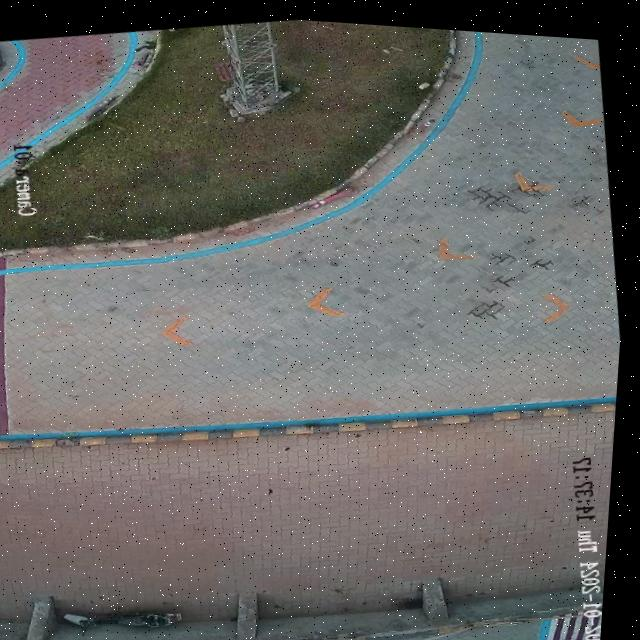No Car: (0, 16, 624, 640)
